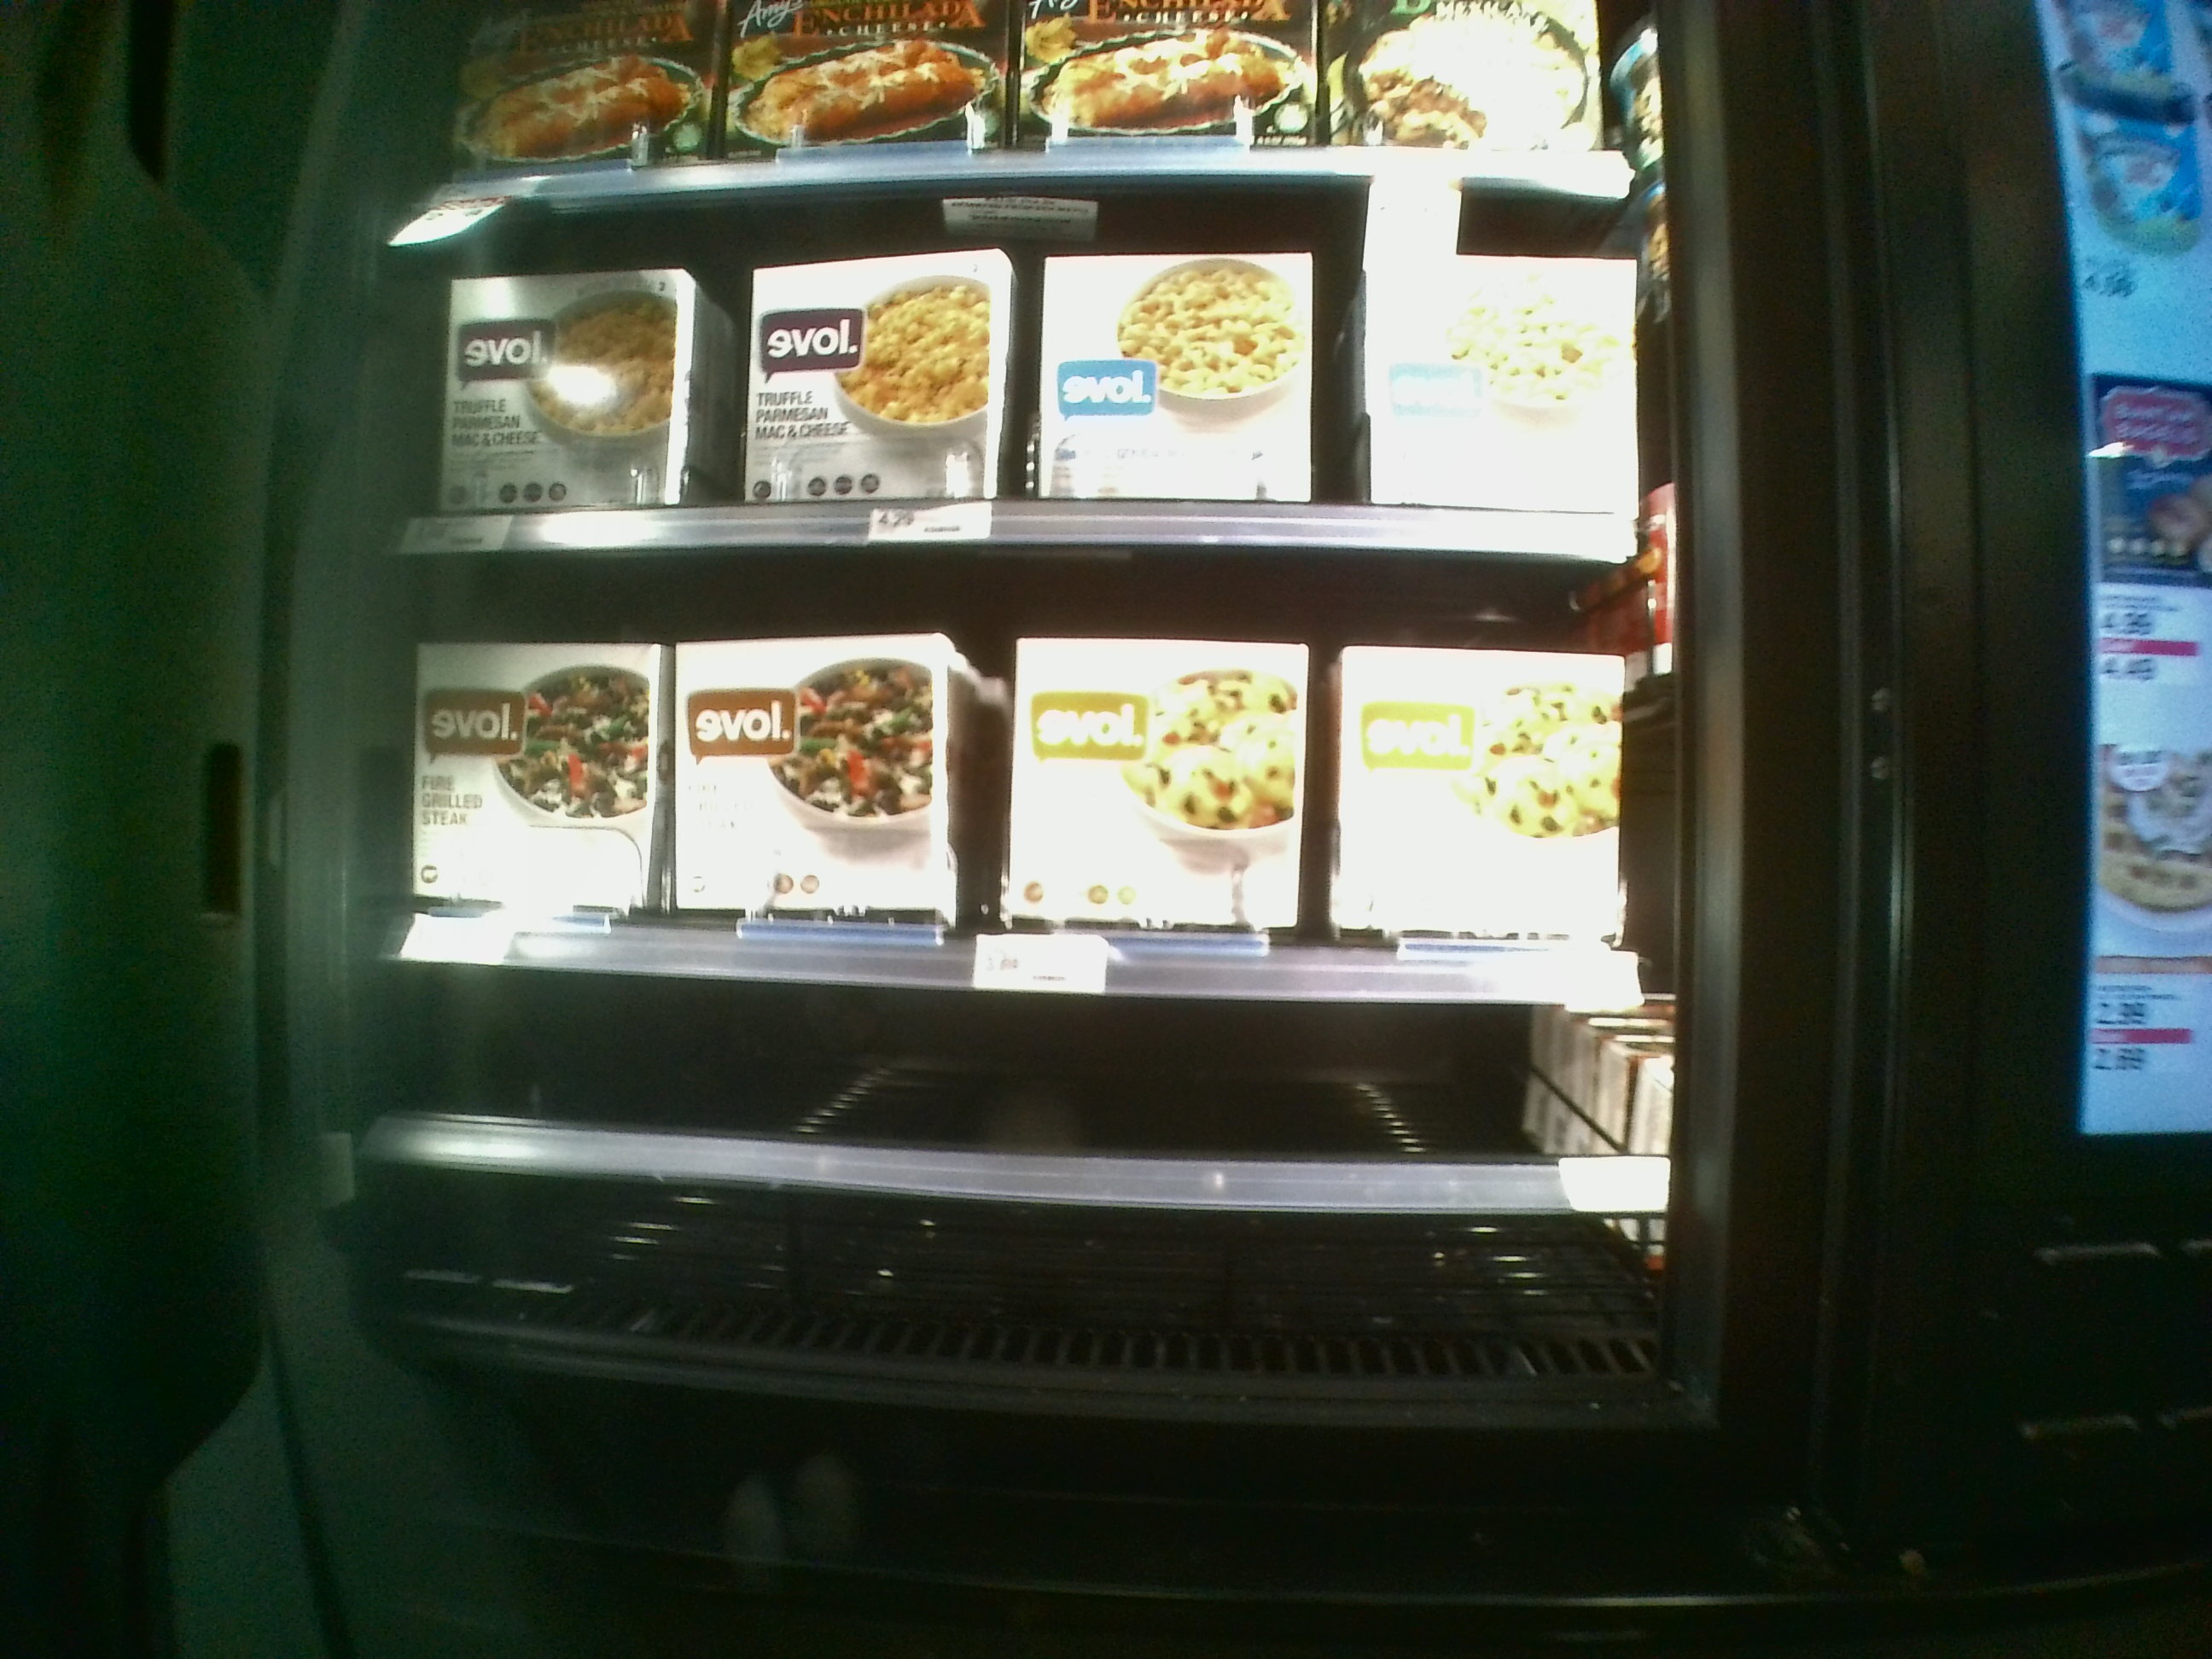shelf: (402, 558, 1658, 1004), (397, 985, 1676, 1377), (404, 192, 1646, 565)
